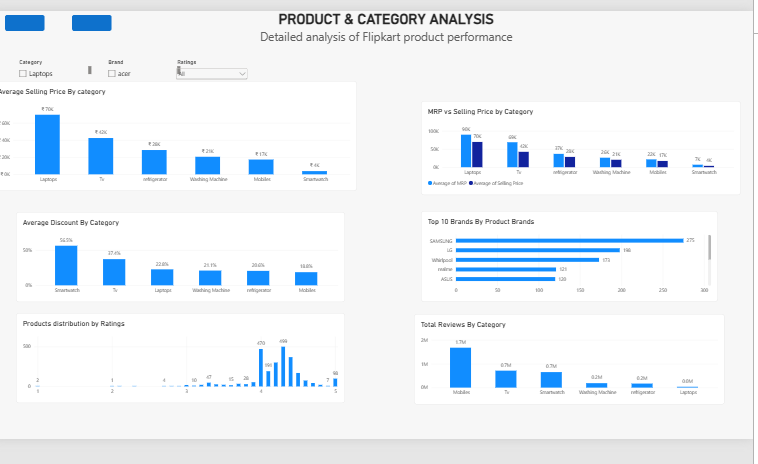

This screenshot's page, from the dashboard's own definition file:
{"tool":"powerbi","page":{"name":"Product & Category Analysis","canvas":[1920,1080],"ordinal":1},"visuals":[{"type":"textbox","title":"PRODUCT & CATEGORY ANALYSIS","box":[577.5,0,837.5,97.5],"z":0},{"type":"clusteredColumnChart","title":"Average Selling Price By category","fields":{"Category":["Flipkart Products.Category"],"Y":["Flipkart Products.Average Selling Price"]},"box":[0,177.5,922.2,277.2],"z":1000},{"type":"clusteredColumnChart","title":"MRP vs Selling Price by Category","fields":{"Y":["Avg(Flipkart Products.MRP)","Avg(Flipkart Products.Selling Price)"],"Category":["Flipkart Products.Category"]},"box":[1082.5,227.5,806.3,236.9],"z":2000},{"type":"clusteredColumnChart","title":"Average Discount By Category","fields":{"Category":["Flipkart Products.Category"],"Y":["Flipkart Products.Average Discount %"]},"box":[63,506.5,829,226.8],"z":3000},{"type":"clusteredBarChart","title":"Top 10 Brands By Product Brands","fields":{"Y":["Flipkart Products.Total Products"],"Category":["Flipkart Products.Brand"]},"box":[1082.5,505,748.3,229.3],"z":4000},{"type":"clusteredColumnChart","title":"Products distribution by Ratings","fields":{"Category":["Flipkart Products.Ratings"],"Y":["Flipkart Products.Total Products"]},"box":[63,761.5,829,227],"z":5000},{"type":"clusteredColumnChart","title":"Total Reviews By Category","fields":{"Category":["Flipkart Products.Category"],"Y":["Sum(Flipkart Products.Review Count)"]},"box":[1065,762.5,782.5,227.5],"z":6000},{"type":"slicer","fields":{"Values":["Flipkart Products.Category"]},"box":[62.5,120,190,57.5],"z":7000},{"type":"slicer","fields":{"Values":["Flipkart Products.Brand"]},"box":[287.5,120,190,52.5],"z":8000},{"type":"slicer","fields":{"Values":["Flipkart Products.Ratings"]},"box":[460,120,190,52.5],"z":9000},{"type":"actionButton","box":[35,10,100,40],"z":10000},{"type":"actionButton","box":[203.3,10,100,40],"z":11000}]}

Visuals, with their boxes on the page's 1920x1080 design canvas (x1, y1, x2, y2). These are canvas units, not pixel positions in the 758x464 screenshot, which may show the page scaled, cropped or inside an application window:
"PRODUCT & CATEGORY ANALYSIS" textbox: l=578, t=0, r=1415, b=98
"Average Selling Price By category" clusteredColumnChart: l=0, t=178, r=922, b=455
"MRP vs Selling Price by Category" clusteredColumnChart: l=1082, t=228, r=1889, b=464
"Average Discount By Category" clusteredColumnChart: l=63, t=506, r=892, b=733
"Top 10 Brands By Product Brands" clusteredBarChart: l=1082, t=505, r=1831, b=734
"Products distribution by Ratings" clusteredColumnChart: l=63, t=762, r=892, b=988
"Total Reviews By Category" clusteredColumnChart: l=1065, t=762, r=1848, b=990
slicer - Flipkart Products.Category: l=62, t=120, r=252, b=178
slicer - Flipkart Products.Brand: l=288, t=120, r=478, b=172
slicer - Flipkart Products.Ratings: l=460, t=120, r=650, b=172
actionButton: l=35, t=10, r=135, b=50
actionButton: l=203, t=10, r=303, b=50
